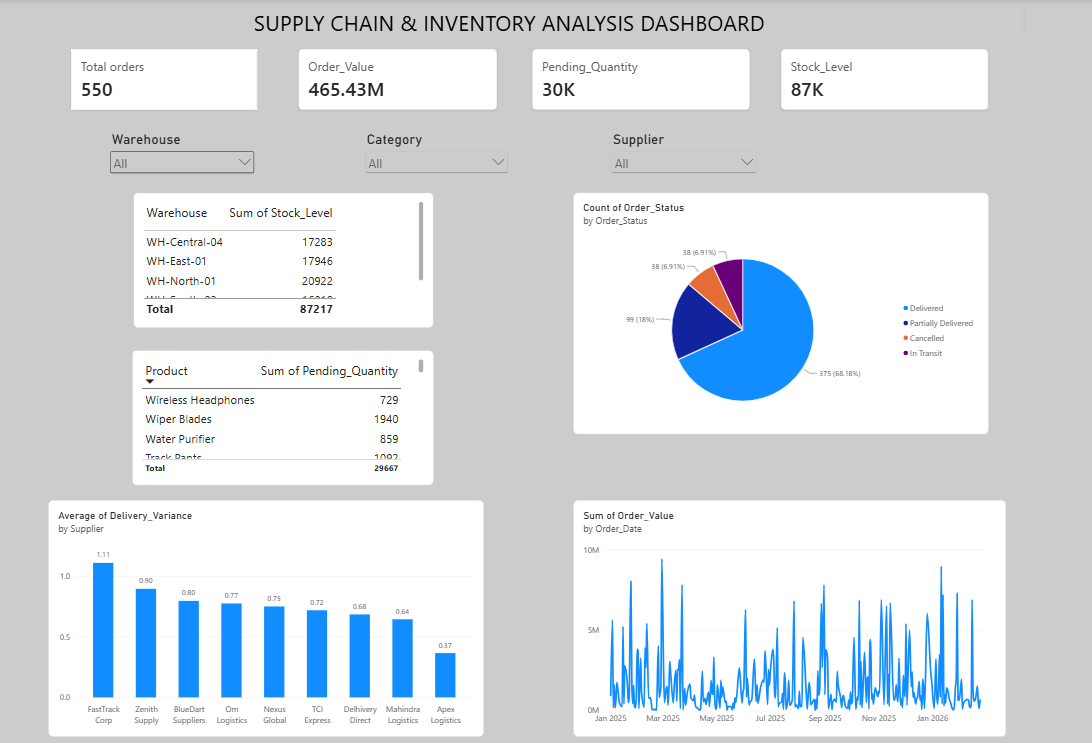

Layout of this report page (visuals, bound fields, positions):
{"tool":"powerbi","page":{"name":"overview","canvas":[1920,1300],"ordinal":0},"visuals":[{"type":"cardVisual","fields":{"Data":["SupplyChainInventory.Total Orders"]},"box":[130.7,87.1,324.6,106.7],"z":0},{"type":"cardVisual","fields":{"Data":["Sum(SupplyChainInventory.Order_Value)"]},"box":[527.1,87.1,346.3,106.7],"z":1000},{"type":"cardVisual","fields":{"Data":["Sum(SupplyChainInventory.Pending_Quantity)"]},"box":[934.5,87.1,379,106.7],"z":2000},{"type":"cardVisual","fields":{"Data":["Sum(SupplyChainInventory.Stock_Level)"]},"box":[1368,87.1,361.6,106.7],"z":3000},{"type":"pieChart","fields":{"Category":["SupplyChainInventory.Order_Status"],"Y":["CountNonNull(SupplyChainInventory.Order_Status)"]},"box":[1006.4,337.6,723.2,420.4],"z":4000},{"type":"tableEx","fields":{"Values":["SupplyChainInventory.Warehouse","Sum(SupplyChainInventory.Stock_Level)"]},"box":[239.6,337.6,522.8,235.3],"z":5000},{"type":"tableEx","fields":{"Values":["SupplyChainInventory.Product","Sum(SupplyChainInventory.Pending_Quantity)"]},"box":[237.4,612.1,525,235.3],"z":6000},{"type":"lineChart","fields":{"Category":["SupplyChainInventory.Order_Date"],"Y":["Sum(SupplyChainInventory.Order_Value)"]},"box":[1006.4,873.5,753.7,411.7],"z":7000},{"type":"columnChart","fields":{"Category":["SupplyChainInventory.Supplier"],"Y":["Avg(SupplyChainInventory.Delivery_Variance)"]},"box":[91.5,873.5,758,411.7],"z":8000},{"type":"slicer","fields":{"Values":["SupplyChainInventory.Supplier"]},"box":[1067.4,230.9,263.6,78.4],"z":9000},{"type":"slicer","fields":{"Values":["SupplyChainInventory.Warehouse"]},"box":[193.9,230.9,261.4,78.4],"z":10000},{"type":"slicer","fields":{"Values":["SupplyChainInventory.Category"]},"box":[638.2,230.9,259.2,78.4],"z":11000},{"type":"textbox","box":[0,15.2,1797.1,56.6],"z":11003}]}

Visuals, with their boxes in screenshot pixels (x1, y1, x2, y2), scaled from the page's 1920x1300 canvas onto the 1092x743 screenshot:
cardVisual - SupplyChainInventory.Total Orders: [74, 50, 259, 111]
cardVisual - Sum(SupplyChainInventory.Order_Value): [300, 50, 497, 111]
cardVisual - Sum(SupplyChainInventory.Pending_Quantity): [531, 50, 747, 111]
cardVisual - Sum(SupplyChainInventory.Stock_Level): [778, 50, 984, 111]
pieChart - SupplyChainInventory.Order_Status x CountNonNull(SupplyChainInventory.Order_Status): [572, 193, 984, 433]
tableEx - SupplyChainInventory.Warehouse x Sum(SupplyChainInventory.Stock_Level): [136, 193, 434, 327]
tableEx - SupplyChainInventory.Product x Sum(SupplyChainInventory.Pending_Quantity): [135, 350, 434, 484]
lineChart - SupplyChainInventory.Order_Date x Sum(SupplyChainInventory.Order_Value): [572, 499, 1001, 735]
columnChart - SupplyChainInventory.Supplier x Avg(SupplyChainInventory.Delivery_Variance): [52, 499, 483, 735]
slicer - SupplyChainInventory.Supplier: [607, 132, 757, 177]
slicer - SupplyChainInventory.Warehouse: [110, 132, 259, 177]
slicer - SupplyChainInventory.Category: [363, 132, 510, 177]
textbox: [0, 9, 1022, 41]
